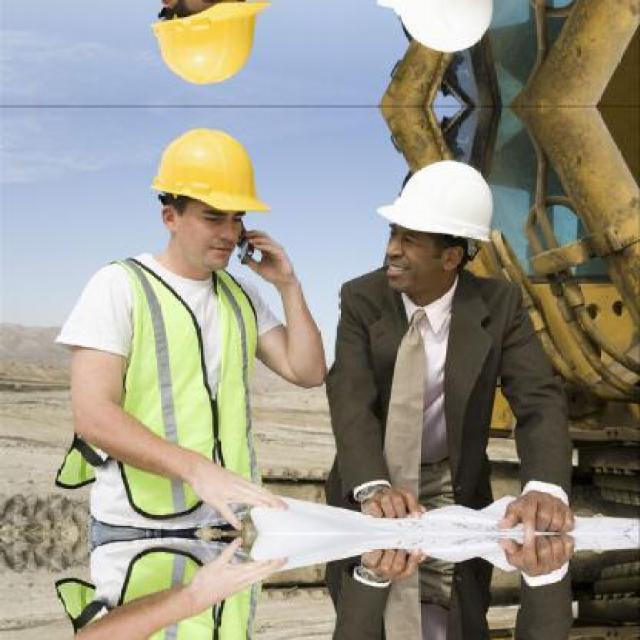Reflective-Jacket: (40, 244, 289, 504)
Safety-Helmet: (146, 117, 294, 233), (367, 148, 523, 247)
